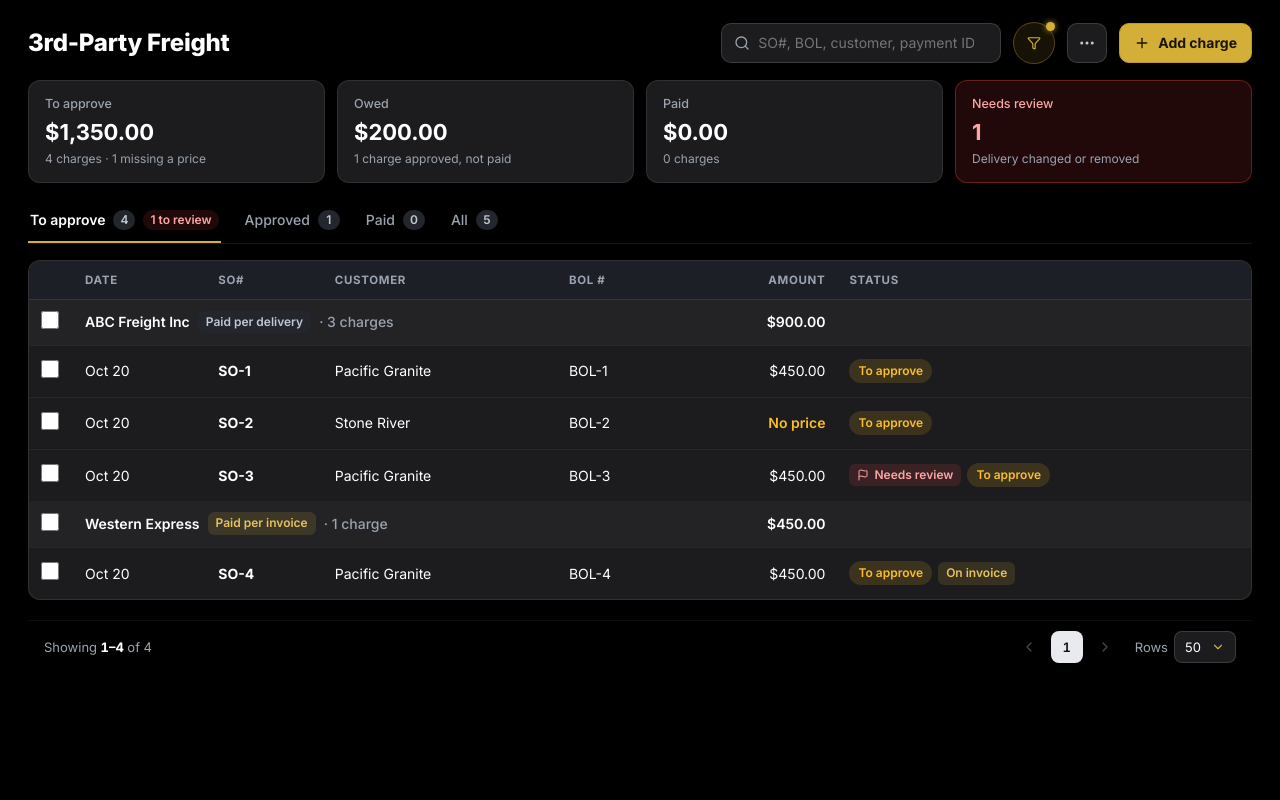
3rd-Party Freight list › Approve & pay opens the one-step form, and paying shows the PAY- id
Step 1. Click the 2nd checkbox with class "fr-chk" → (50,369), box [41,360,59,378]
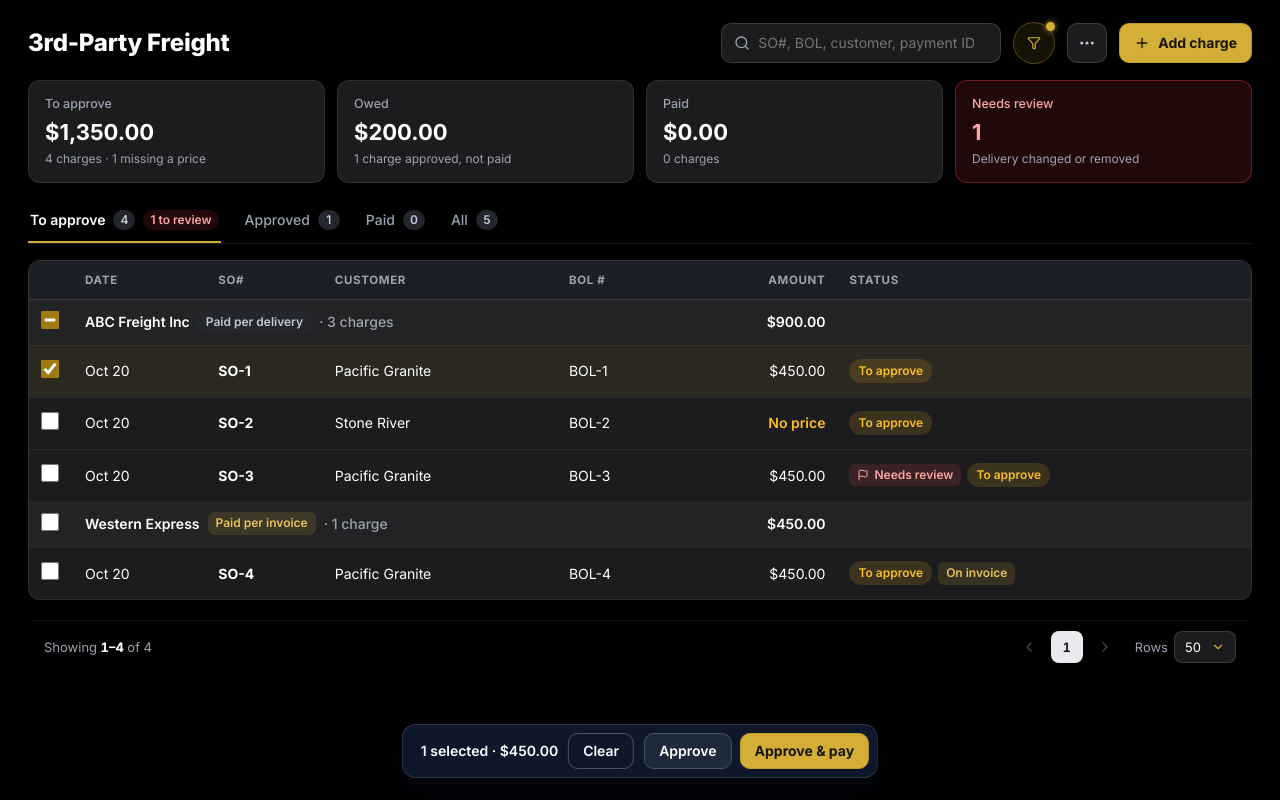
Step 2. Click the button "Approve & pay" → (804,751), box [740,733,869,769]
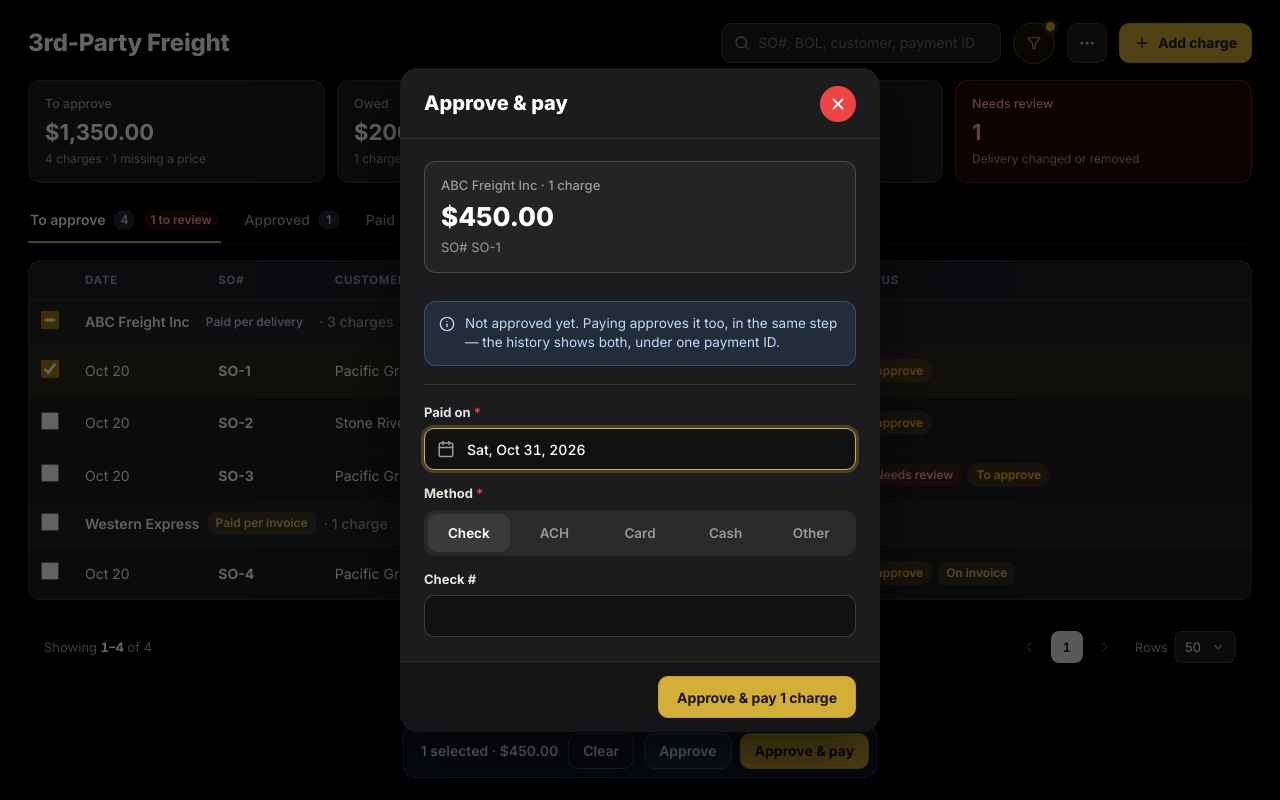
Expected: the text "Paying approves it too" is shown, [465,315,837,350]
Step 3. Click the button "Approve & pay 1 charge" → (757,697), box [658,676,856,718]
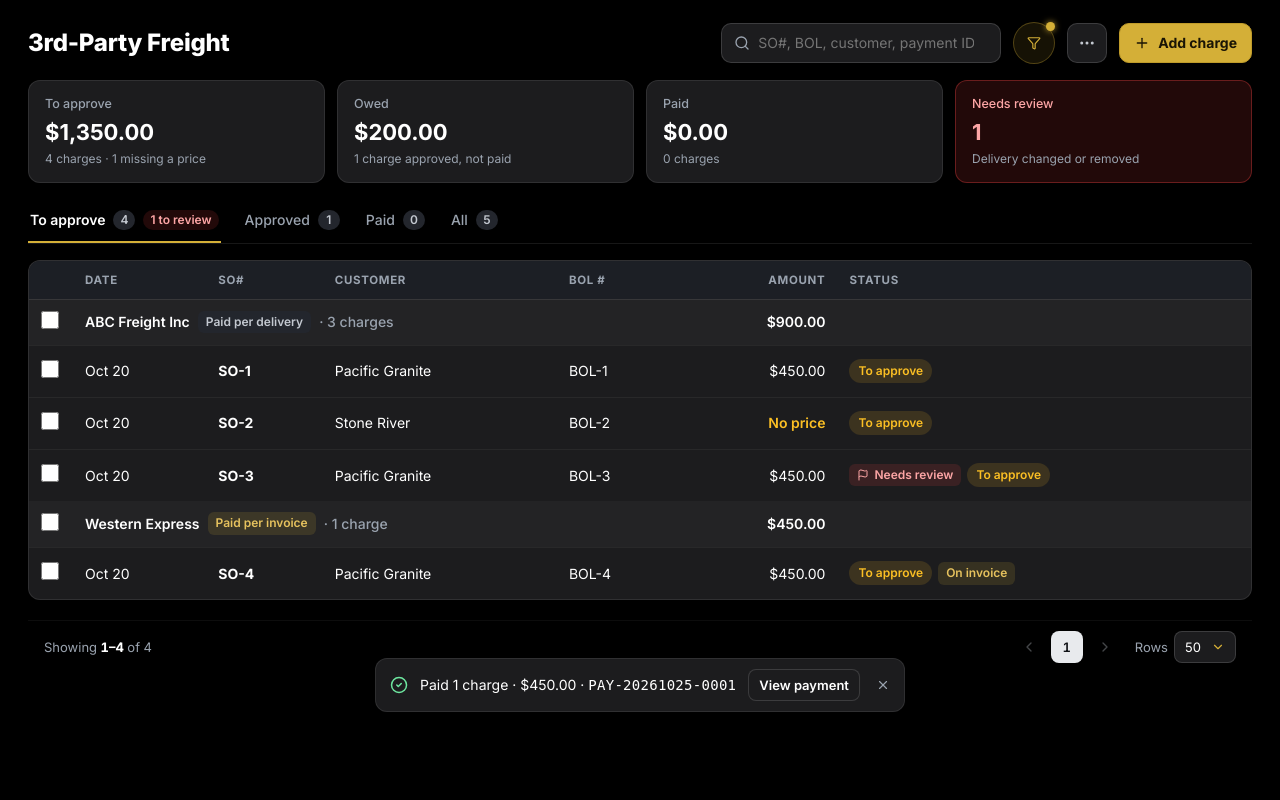
Expected: the message with class "fr-toast" shows "Paid 1 charge · $450.00 · PAY-20261025-0001", [375,658,905,712]
Expected: the element with class "fr-bar" is gone
